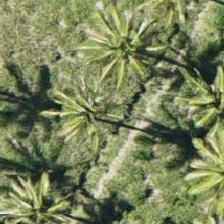coconut_tree: (46, 70, 136, 160), (98, 0, 188, 76), (157, 47, 223, 137), (0, 144, 73, 223)
